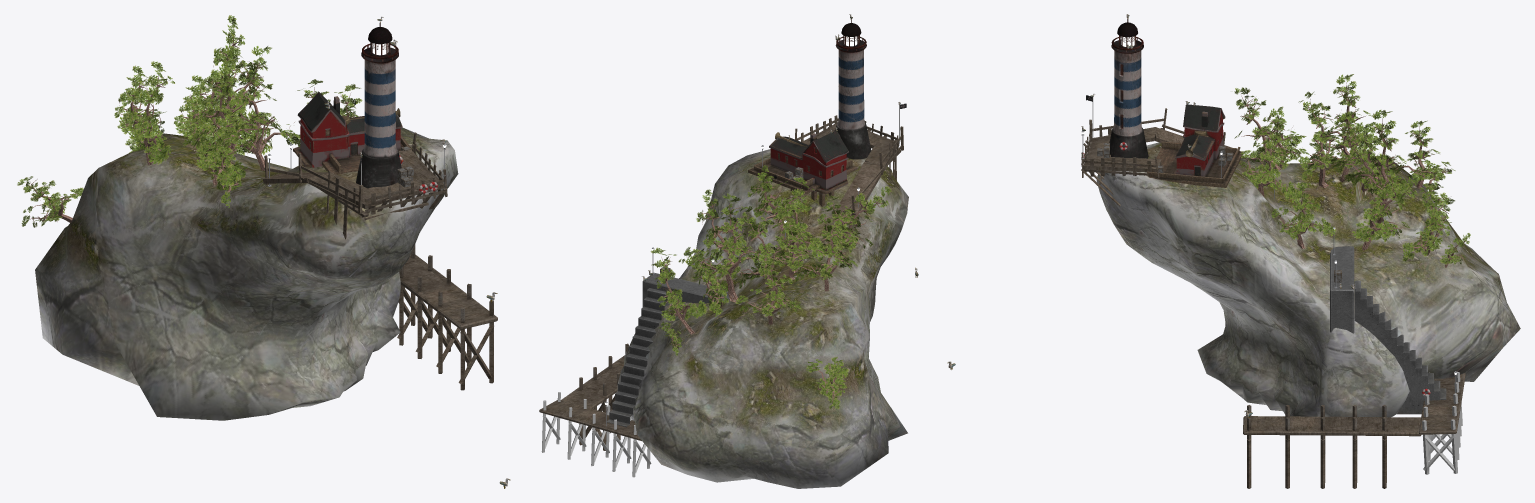
File: lighthouse-isle.glb
3 renders of one model, left to right at view 1: azimuth 30°, elevation 25°; view 2: azimuth 150°, elevation 25°; view 3: azimuth 270°, elevation 25°, orthographic. The views are drawn at different scales.
Visible parts, largest first — view 1: Island, dock, walkway_1, House, main_tower, OptimizedTree__17_, OptimizedTree, OptimizedTree__9_, OptimizedTree__15_, OptimizedTree__3_, OptimizedTree__18_, OptimizedTree__7_ (+5 smaller); view 2: Island, House, Stairs, dock__1_, main_tower, walkway_1, OptimizedTree__3_, dock, OptimizedTree__17_, OptimizedTree__5_, OptimizedTree__14_, OptimizedTree__8_ (+8 smaller); view 3: Island, Stairs, dock, House, main_tower, dock__1_, walkway_1, OptimizedTree__3_, OptimizedTree__9_, OptimizedTree__5_, OptimizedTree, OptimizedTree__8_ (+7 smaller).
Boxes of the visible parts, x1,y1,x2,y2 form: Island: [35, 128, 458, 420]; dock: [397, 244, 497, 390]; walkway_1: [263, 132, 447, 239]; House: [293, 92, 418, 174]; main_tower: [356, 60, 401, 188]; OptimizedTree__17_: [127, 61, 174, 165]; OptimizedTree: [183, 59, 270, 161]; OptimizedTree__9_: [223, 60, 300, 171]; OptimizedTree__15_: [191, 124, 247, 207]; OptimizedTree__3_: [210, 15, 256, 154]; OptimizedTree__18_: [17, 176, 83, 227]; OptimizedTree__7_: [114, 65, 159, 152]; Island: [617, 149, 908, 488]; House: [748, 131, 857, 207]; Stairs: [606, 272, 729, 433]; dock__1_: [539, 392, 651, 477]; main_tower: [835, 50, 871, 159]; walkway_1: [795, 115, 903, 215]; OptimizedTree__3_: [688, 193, 769, 302]; dock: [561, 343, 628, 450]; OptimizedTree__17_: [791, 205, 857, 291]; OptimizedTree__5_: [650, 247, 707, 334]; OptimizedTree__14_: [731, 206, 797, 290]; OptimizedTree__8_: [747, 165, 807, 235]; Island: [1096, 142, 1520, 417]; Stairs: [1330, 246, 1446, 414]; dock: [1243, 405, 1421, 488]; House: [1147, 104, 1243, 187]; main_tower: [1109, 50, 1148, 158]; dock__1_: [1419, 371, 1465, 474]; walkway_1: [1081, 108, 1231, 206]; OptimizedTree__3_: [1343, 110, 1410, 221]; OptimizedTree__9_: [1352, 173, 1419, 250]; OptimizedTree__5_: [1402, 186, 1451, 261]; OptimizedTree: [1298, 91, 1339, 187]; OptimizedTree__8_: [1240, 133, 1300, 202].
Size of the model in its own units: 295 by 348 by 455.
10 materials, 7 textured.
